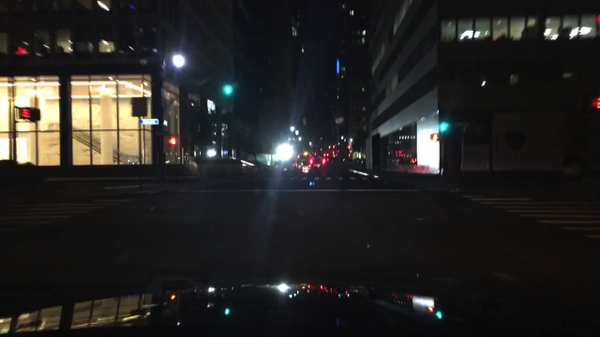car: (292, 151, 329, 176)
traffic light: (18, 109, 40, 122), (14, 43, 30, 59), (592, 96, 599, 109), (169, 137, 178, 147), (439, 123, 446, 132), (430, 134, 439, 140)
traffic sign: (130, 99, 146, 116), (140, 119, 159, 126), (455, 122, 469, 128)
